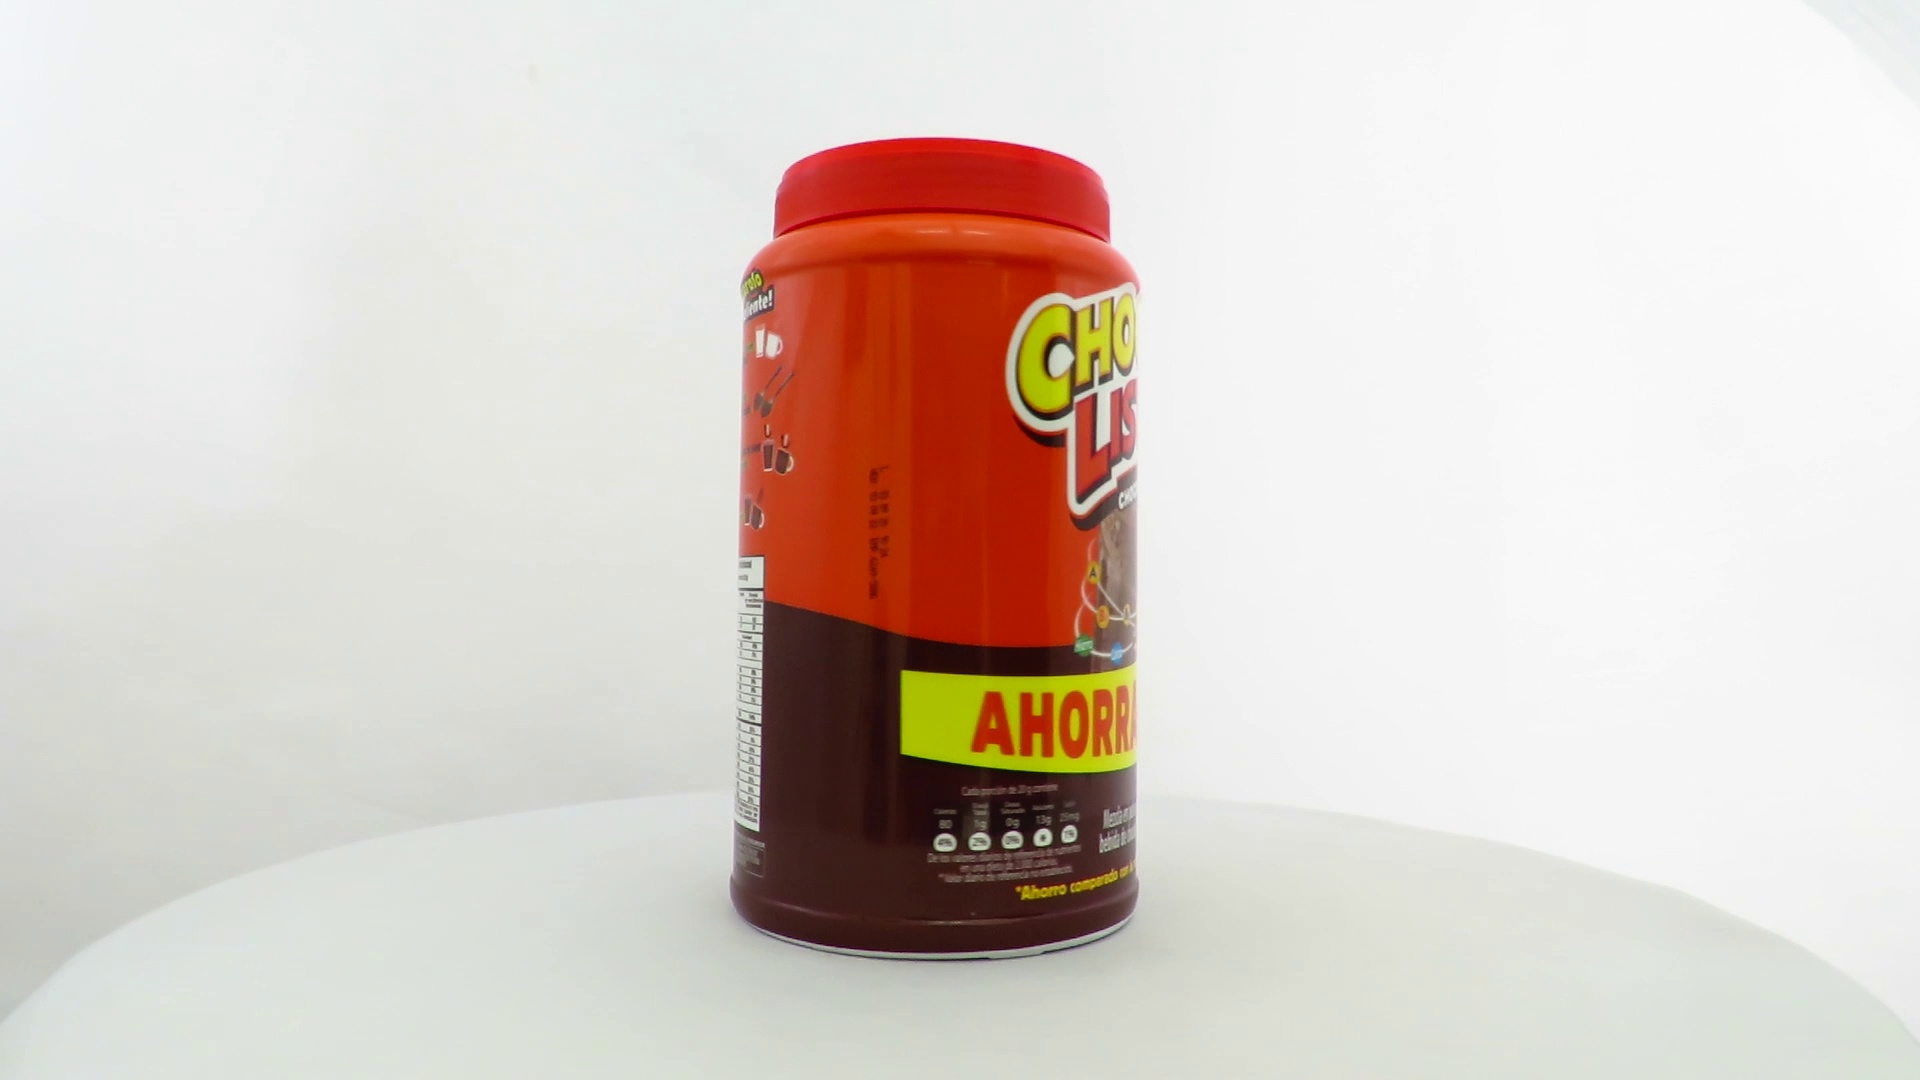COL0170103TRR00100: (724, 132, 1146, 968)
